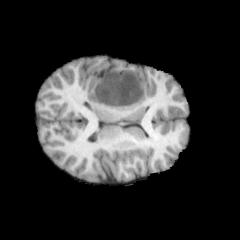glioma: (87, 70, 144, 108)
